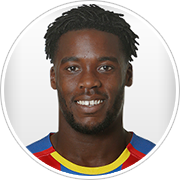smile: (74, 95, 107, 110)
